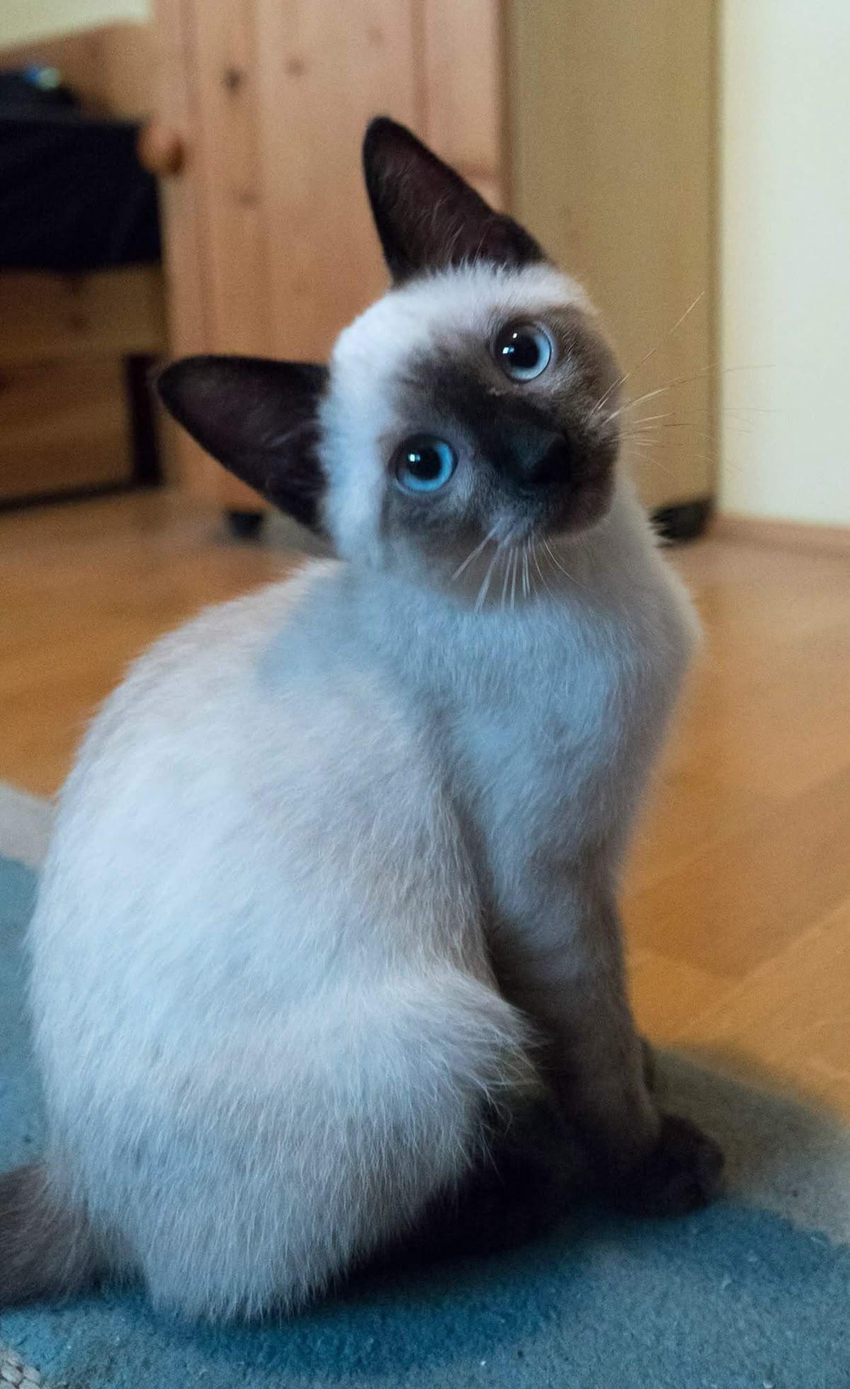rabbit: (0, 119, 720, 1317)
